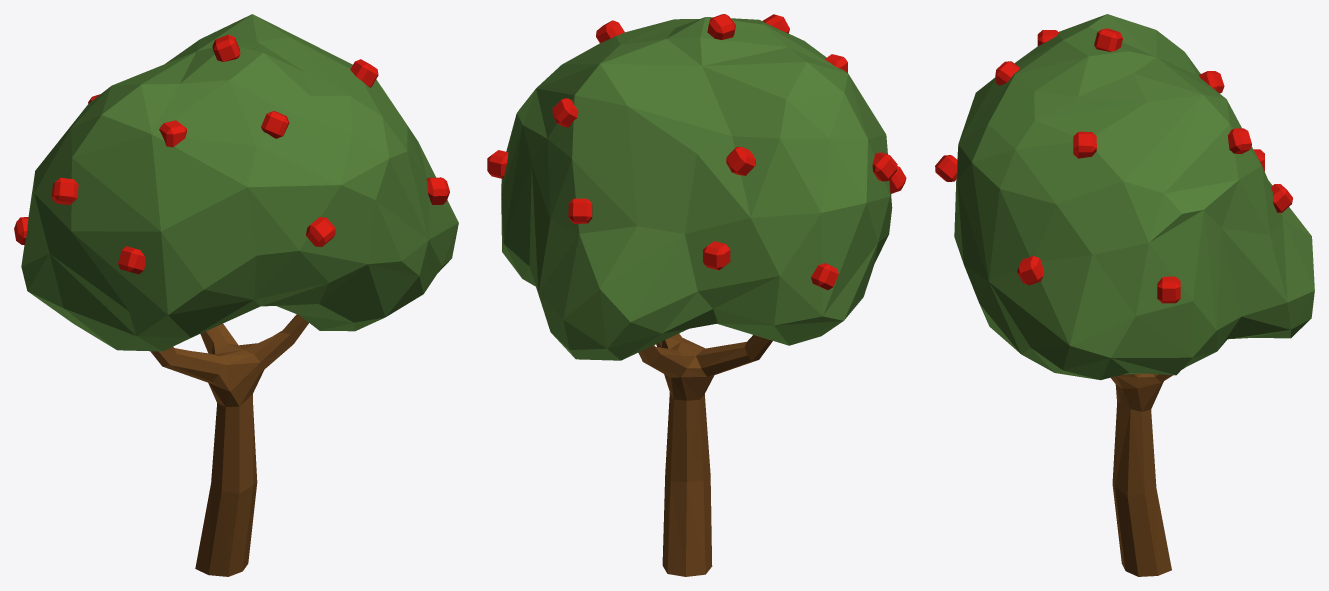
The model's file is Tree3Apple.fbx.
3 renders of one model, left to right at view 1: azimuth 30°, elevation 25°; view 2: azimuth 150°, elevation 25°; view 3: azimuth 270°, elevation 25°, orthographic. The views are drawn at different scales.
Visible parts, largest first — view 1: Tree_03; view 2: Tree_03; view 3: Tree_03.
Boxes of the visible parts, x1,y1,x2,y2 form: Tree_03: (14,14,458,576); Tree_03: (487,14,906,576); Tree_03: (935,14,1314,576).
Size of the model in its own units: 384 by 509 by 330.
